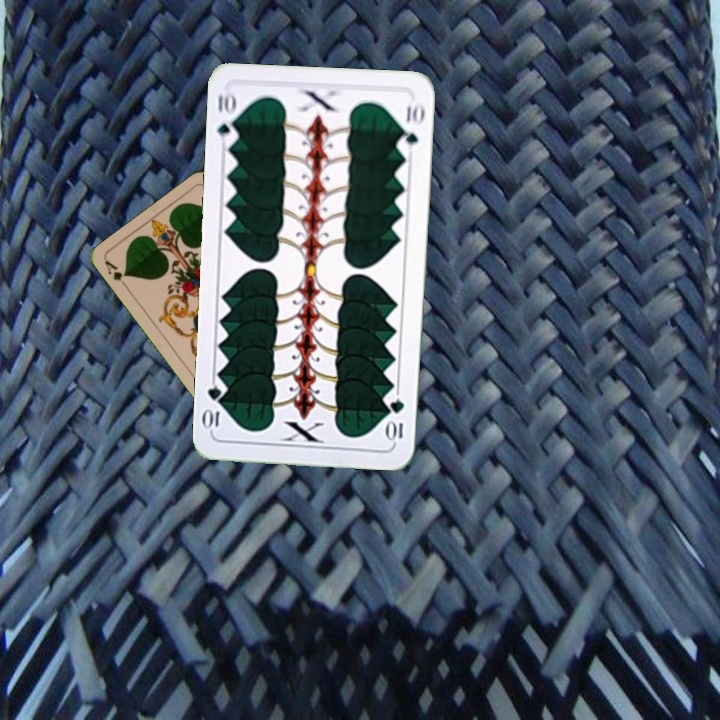G10: (213, 87, 240, 147), (385, 395, 407, 444)
GA: (101, 257, 131, 292)
